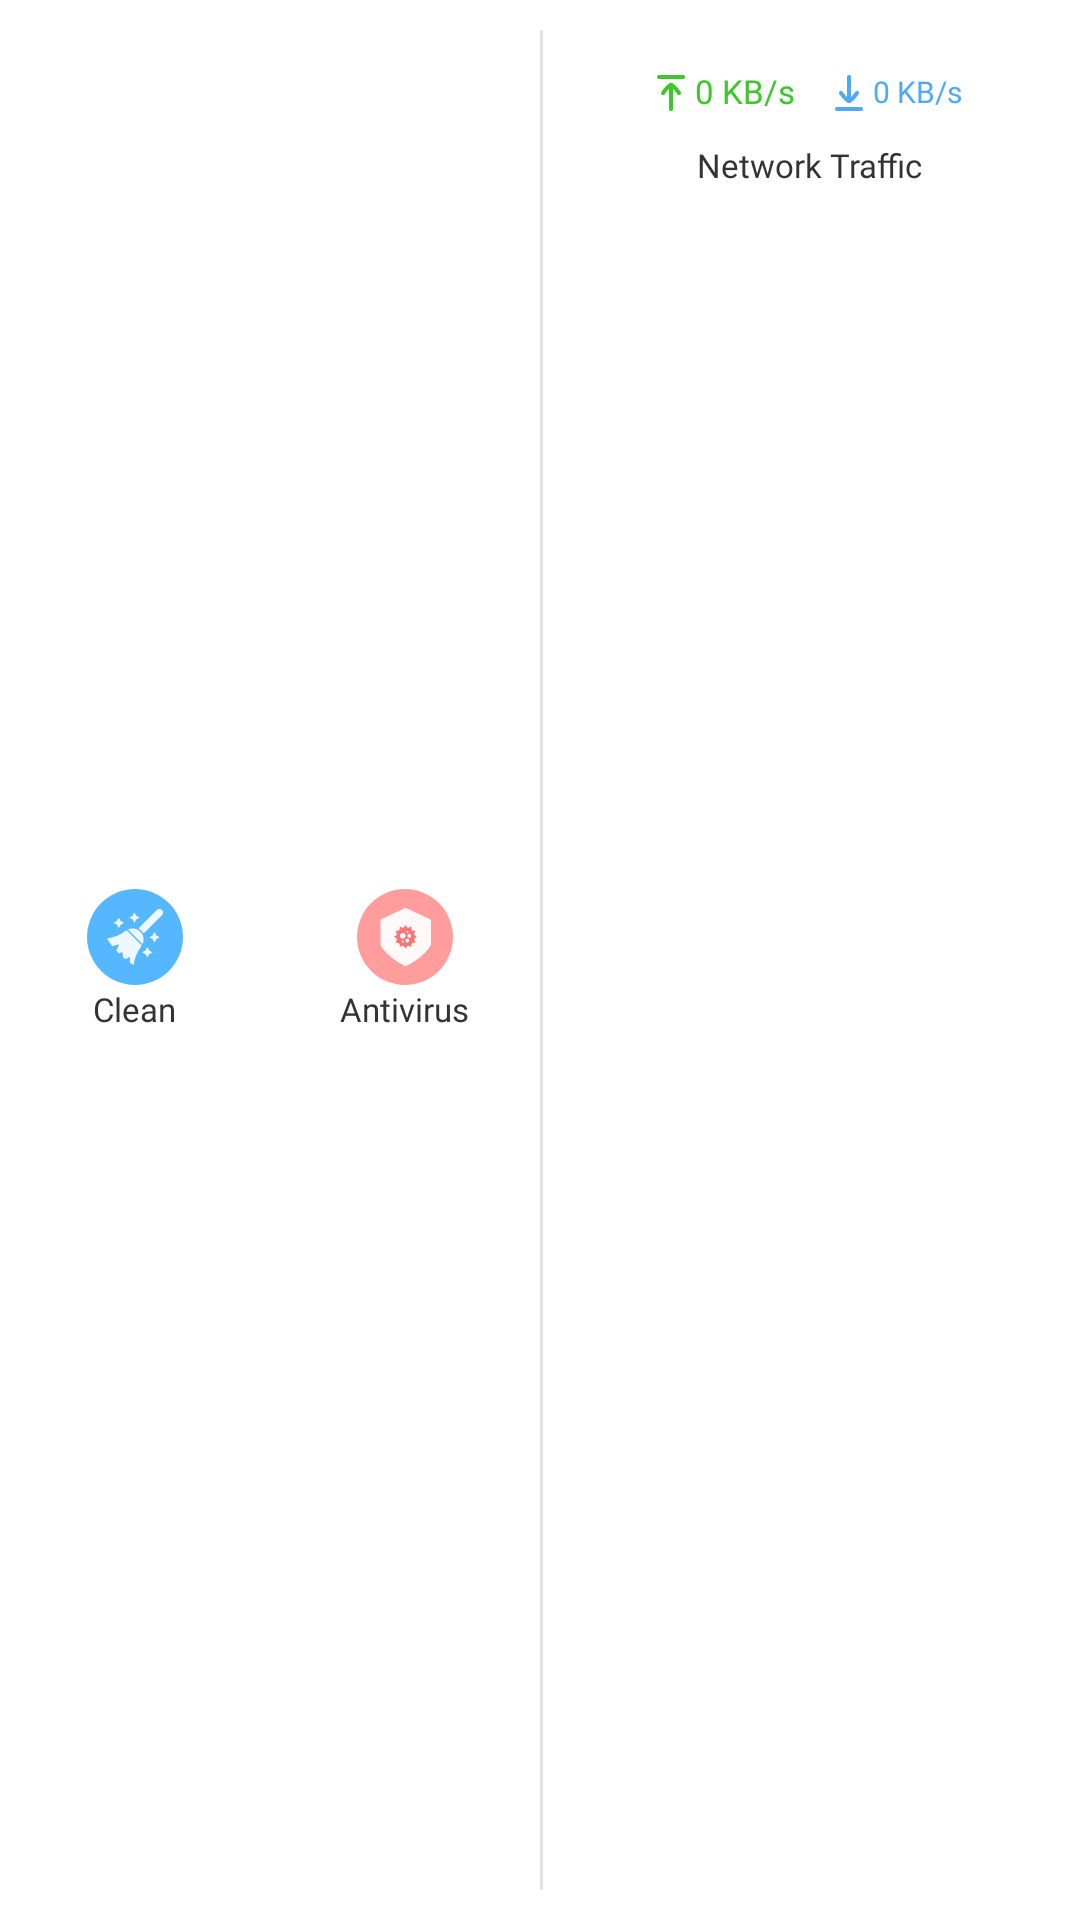

Icon click points for this 1080px x 1920px phone screenshot, format (x,y):
net arrow down: (849,93)
net arrow up: (671,93)
